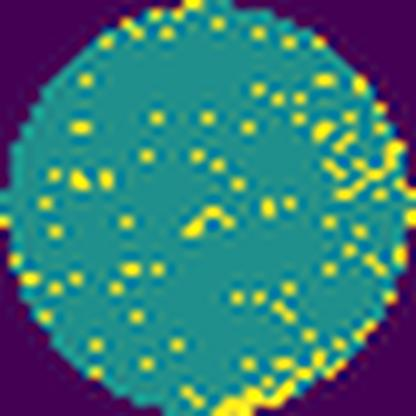Edge-Loc: (207, 337, 346, 415)
